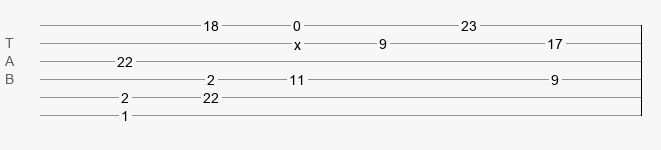0: (293, 18, 301, 28)
1: (121, 108, 129, 118)
11: (289, 72, 305, 82)
17: (547, 36, 563, 46)
18: (203, 18, 219, 28)
2: (121, 90, 129, 100), (207, 72, 215, 82)
22: (117, 54, 133, 64), (203, 90, 219, 100)
23: (461, 18, 477, 28)
9: (379, 36, 387, 46), (551, 72, 559, 82)
x: (294, 37, 301, 45)
